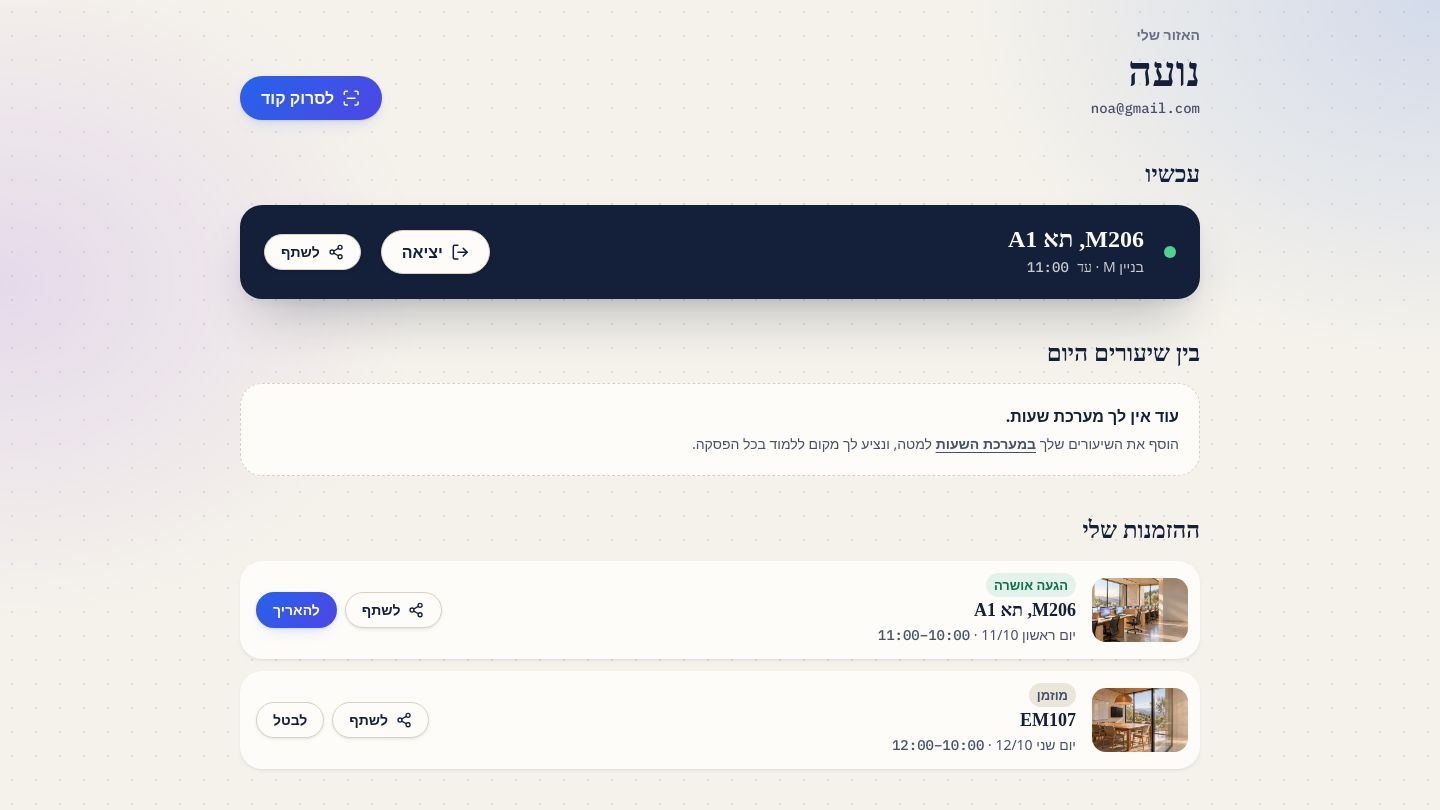
MyPage › cancels a booking after asking
This screenshot has width=1440, height=810.
Click the button "לבטל" at (290, 720), box [256,702,324,738]
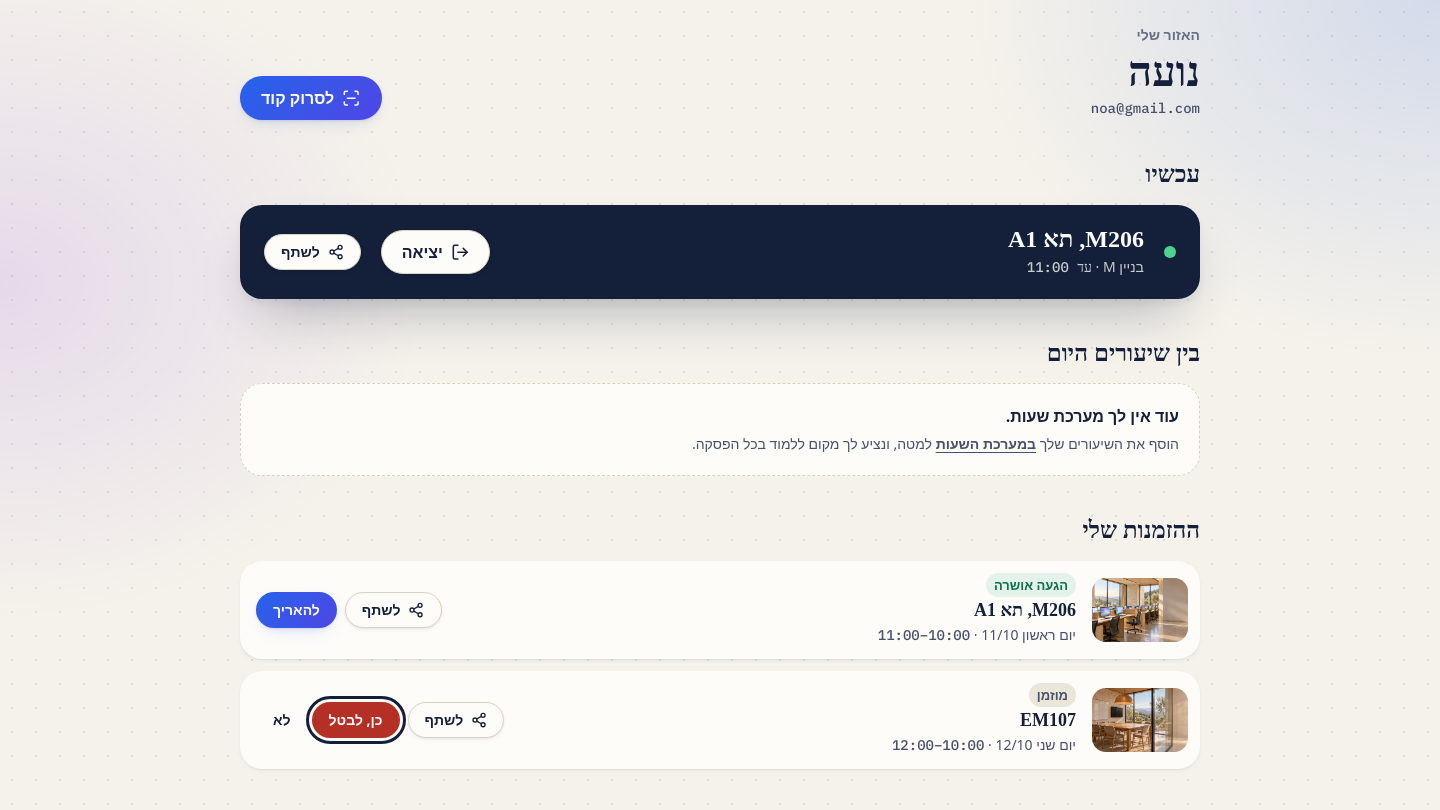
Click the button "כן, לבטל" at (356, 720), box [312,702,400,738]
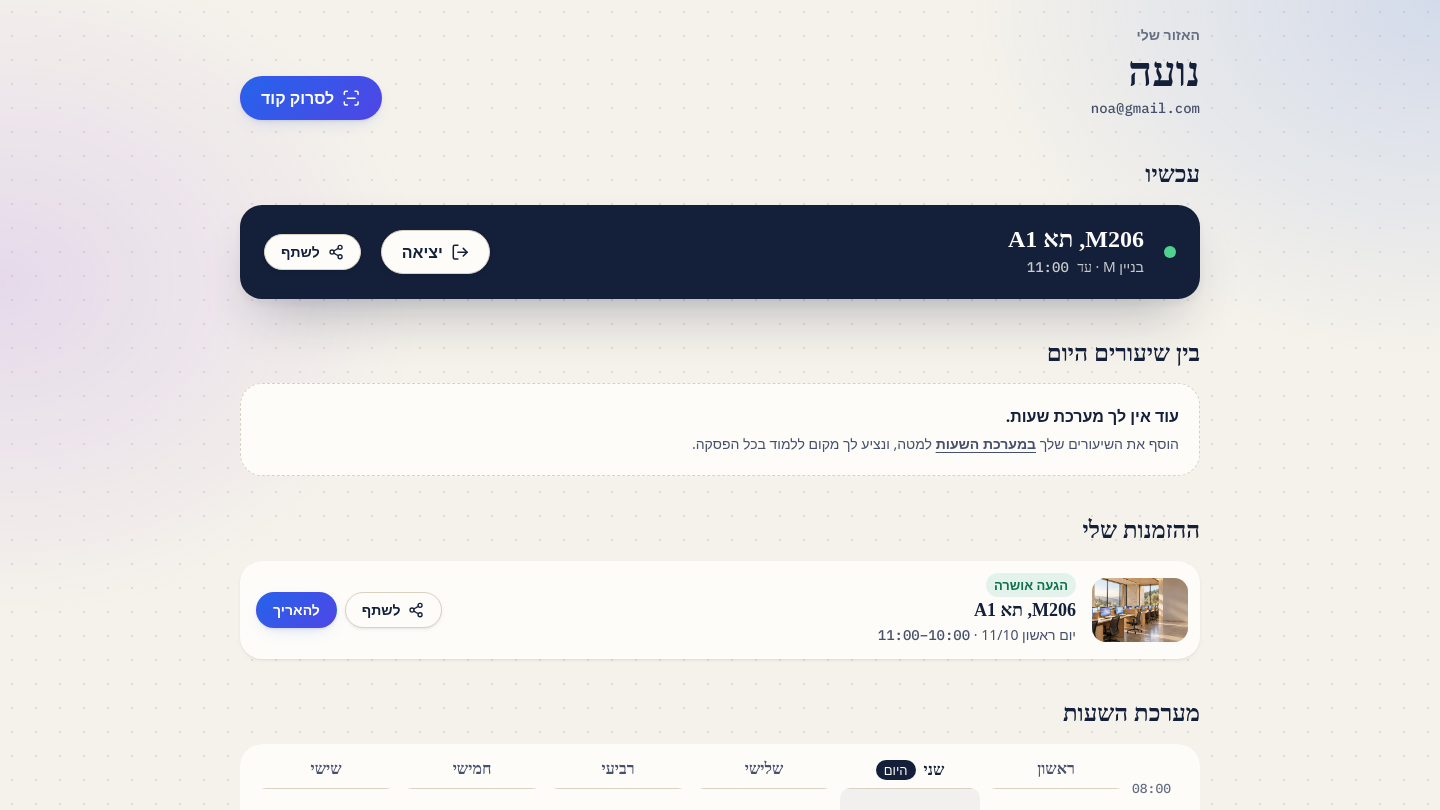
Check: the number of list items named "הזמנה" is 1, box [240,561,1200,659]
